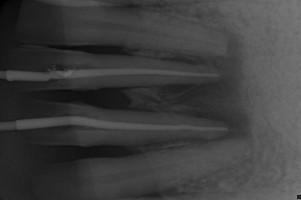Furcation Involvement: (145, 29, 254, 151)
